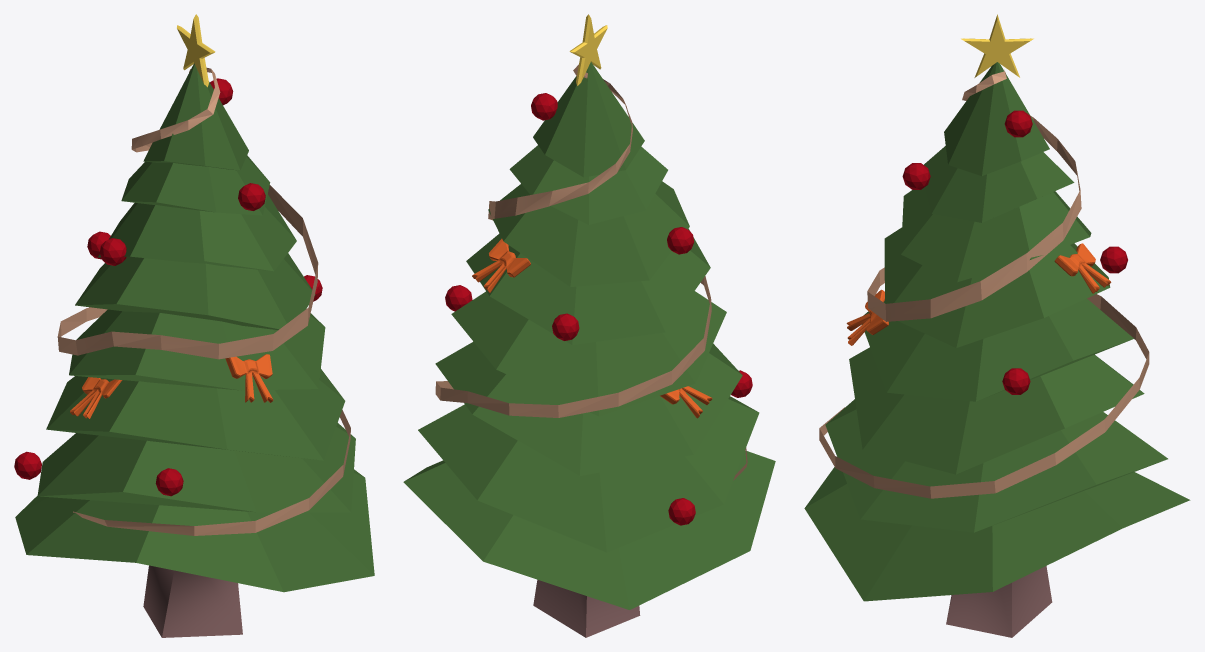
Rendered from tree-edited.glb.
3 renders of one model, left to right at view 1: azimuth 30°, elevation 25°; view 2: azimuth 150°, elevation 25°; view 3: azimuth 270°, elevation 25°, orthographic.
Visible parts, largest first — view 1: Ribbon.02_ChristmasTree_0.003; view 2: Ribbon.02_ChristmasTree_0.003; view 3: Ribbon.02_ChristmasTree_0.003.
Boxes of the visible parts, x1,y1,x2,y2 form: Ribbon.02_ChristmasTree_0.003: [14, 14, 374, 637]; Ribbon.02_ChristmasTree_0.003: [403, 14, 775, 637]; Ribbon.02_ChristmasTree_0.003: [804, 14, 1190, 637].
Bounding box in the file's own units: 0.7075 × 1.23 × 0.7163.
Materials: 1 (1 with a texture image).
